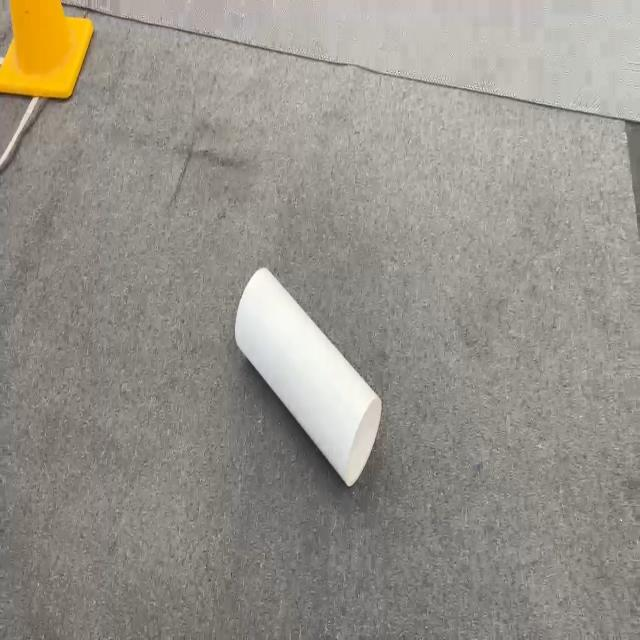coral: (234, 265, 382, 487)
